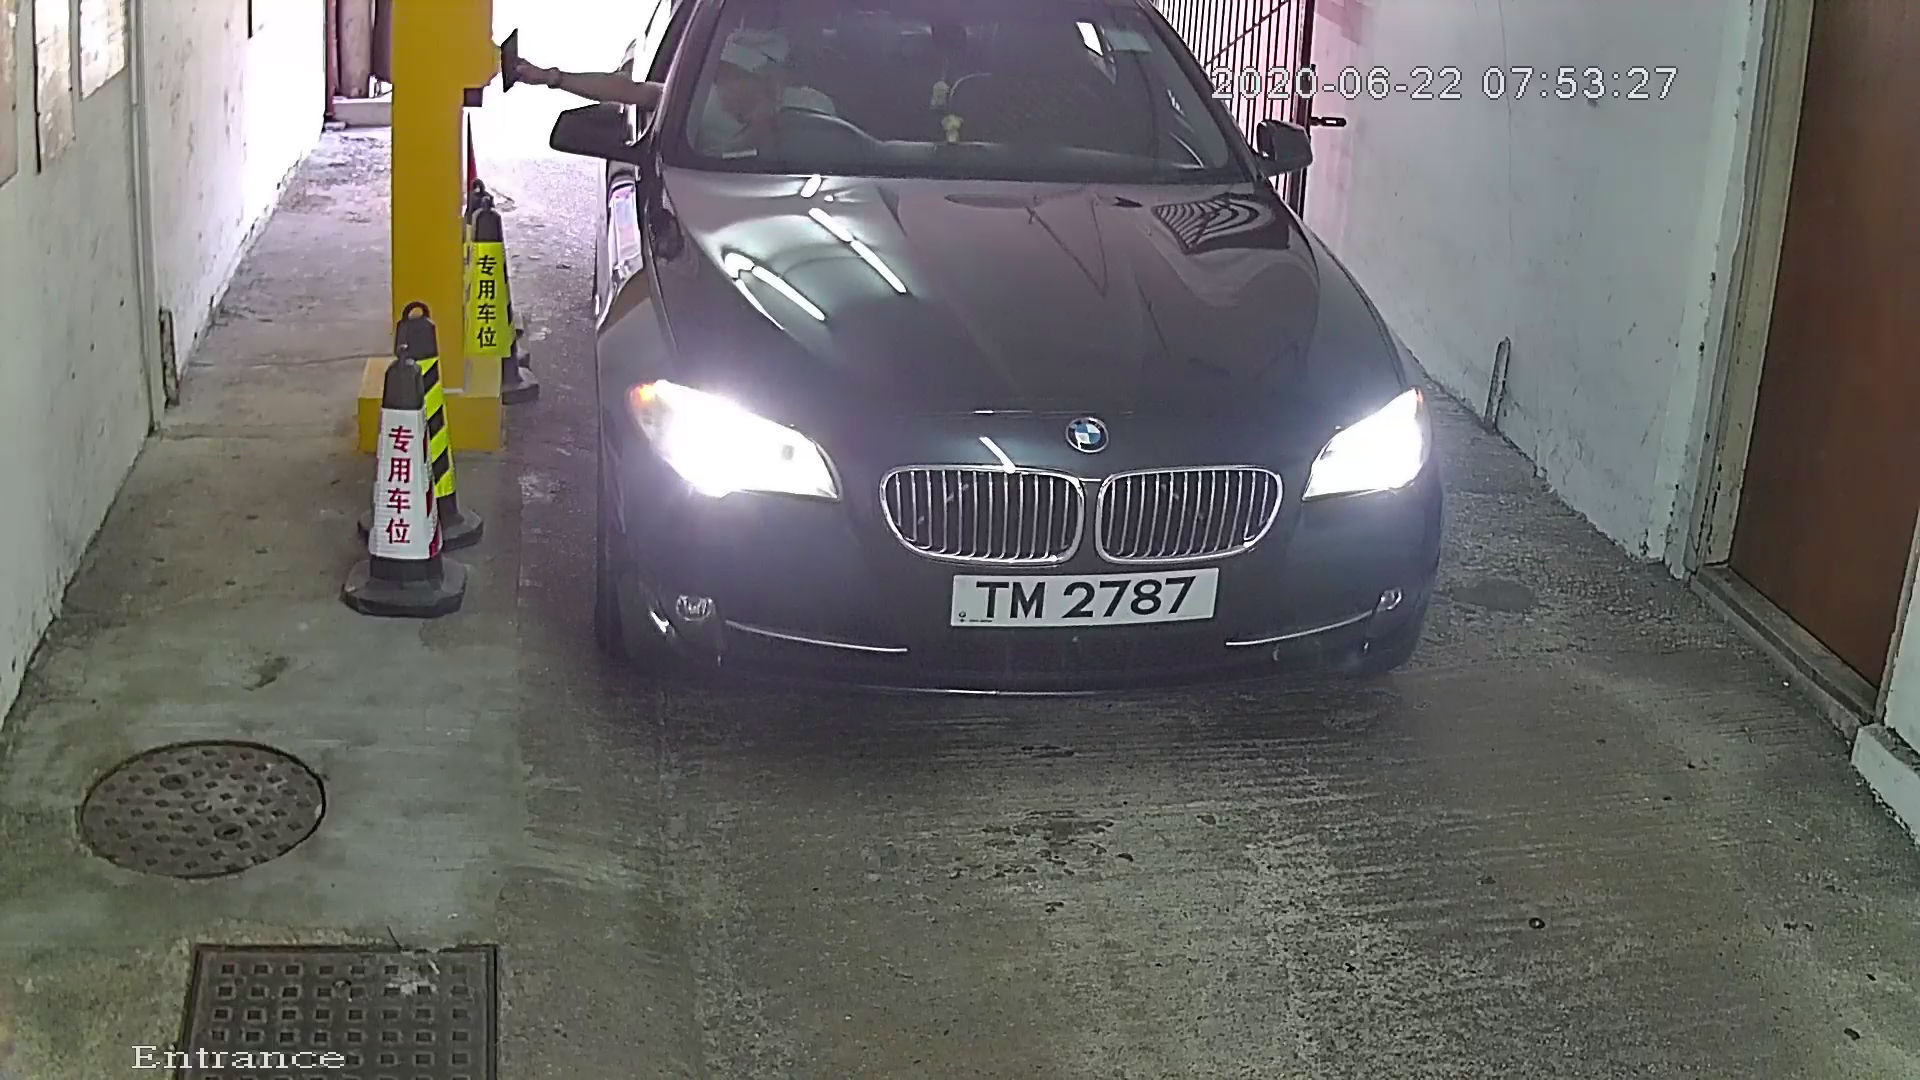privatecar: (534, 3, 1552, 769)
